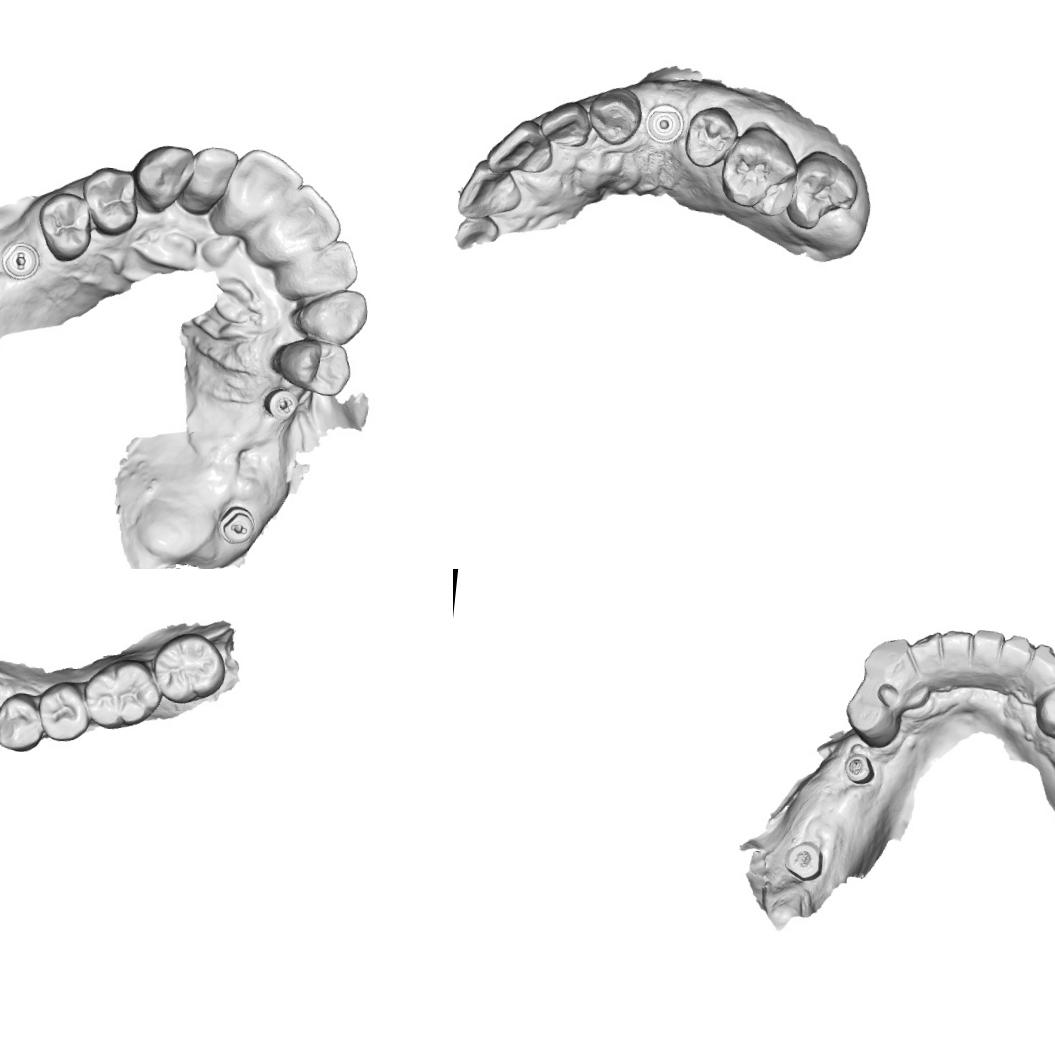canine: (128, 140, 195, 218), (294, 283, 369, 349), (584, 83, 645, 148), (860, 632, 914, 691), (1026, 642, 1055, 687)
implant: (778, 838, 826, 884), (644, 104, 688, 146), (840, 750, 878, 788)
implant_minus: (214, 501, 261, 548), (0, 237, 42, 282)
implant_plus: (259, 384, 303, 424)
incisor: (224, 142, 308, 224), (266, 180, 346, 262), (286, 234, 362, 303), (482, 114, 555, 182), (454, 158, 526, 224), (184, 142, 242, 207), (538, 97, 596, 150), (906, 628, 948, 678), (998, 632, 1036, 681), (969, 626, 1006, 672), (938, 628, 974, 675)
molar: (715, 117, 803, 221), (81, 652, 165, 734), (785, 148, 863, 236), (150, 631, 228, 709)
premolar: (272, 333, 355, 400), (76, 160, 142, 239), (33, 186, 97, 266), (839, 680, 905, 750), (682, 102, 738, 171), (38, 682, 96, 744), (0, 687, 48, 754), (1031, 677, 1055, 743)
